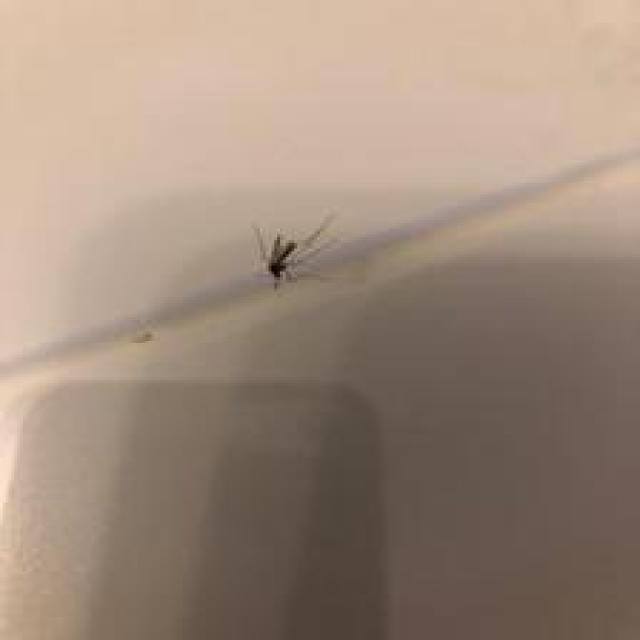Culex: (250, 212, 339, 288)
